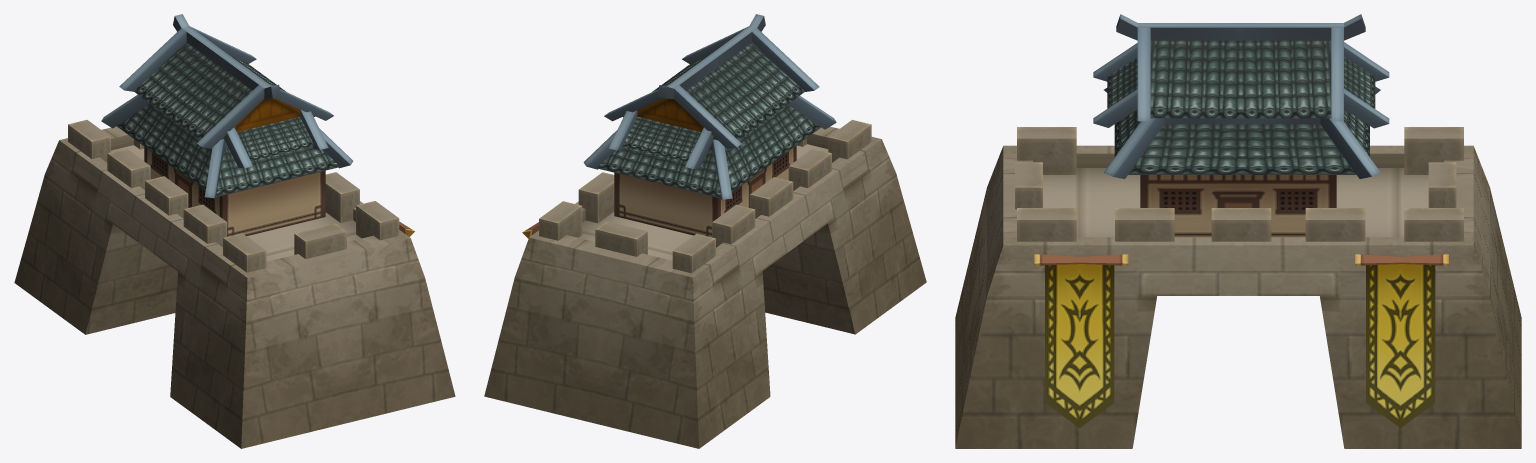
The model's file is QSMY_City_ChengMen01.FBX.
The picture shows the model from 3 angles, left to right: view 1: azimuth 30°, elevation 25°; view 2: azimuth 150°, elevation 25°; view 3: azimuth 270°, elevation 25°; orthographic projection. The views are drawn at different scales.
Parts seen in each view (by area): view 1: Object134; view 2: Object134; view 3: Object134.
Boxes of the visible parts, x1,y1,x2,y2 form: Object134: [14, 14, 455, 448]; Object134: [484, 14, 926, 448]; Object134: [955, 14, 1521, 448].
Size of the model in its own units: 21.27 by 26.81 by 37.95.
